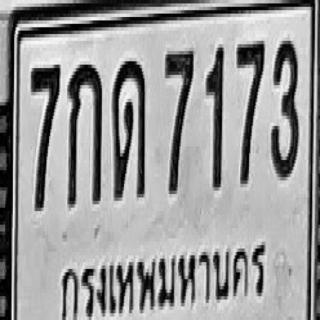A01: (67, 61, 102, 204)
A20: (112, 56, 146, 196)
N01: (206, 42, 224, 189)
N03: (270, 36, 299, 179)
N07: (30, 60, 60, 209), (164, 46, 194, 192), (236, 37, 264, 184)
P04: (56, 230, 272, 320)
